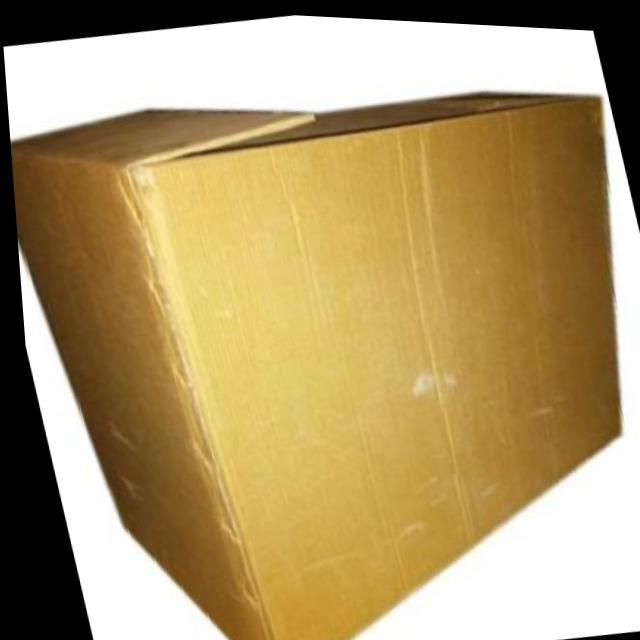box: (1, 15, 640, 640)
